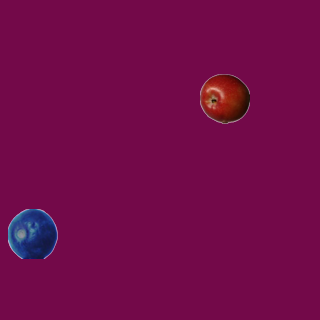Apple Braeburn: (199, 73, 249, 123)
Huckleberry: (7, 208, 57, 258)
